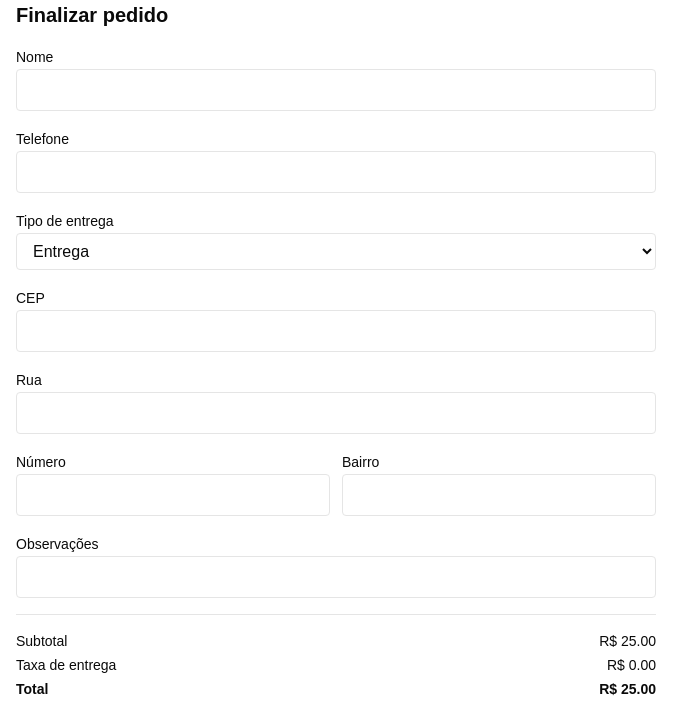
Test: CheckoutPage › finaliza o pedido e mostra a confirmação
Type "Ana" into the field labelled "Nome" at (336, 90), box [16,69,656,111]
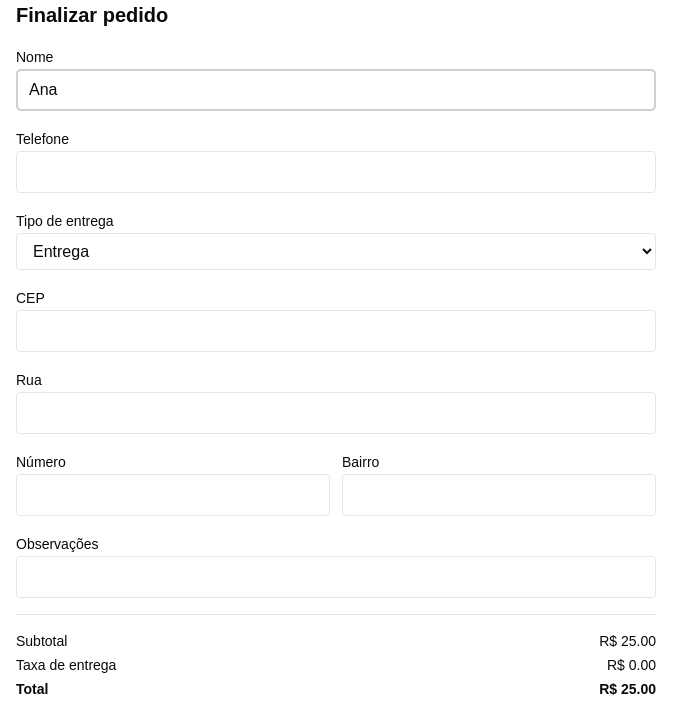
Type "11999999999" into the field labelled "Telefone" at (336, 172), box [16,151,656,193]
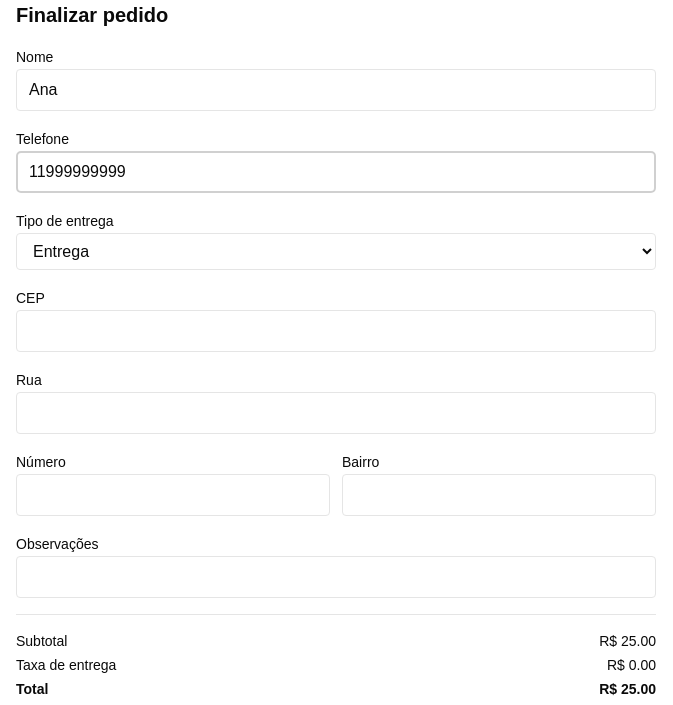
Type "01001000" into the field labelled "CEP" at (336, 331), box [16,310,656,352]
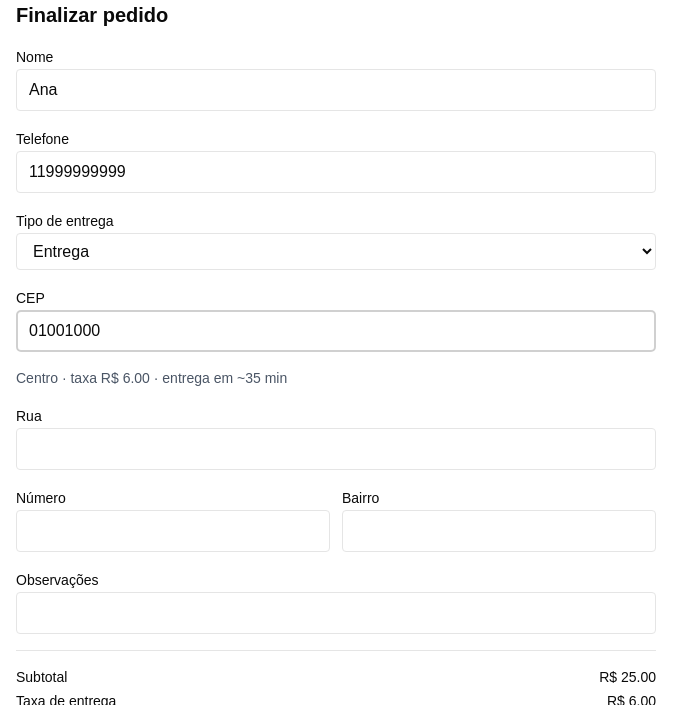
Press Tab
(page scrolled)
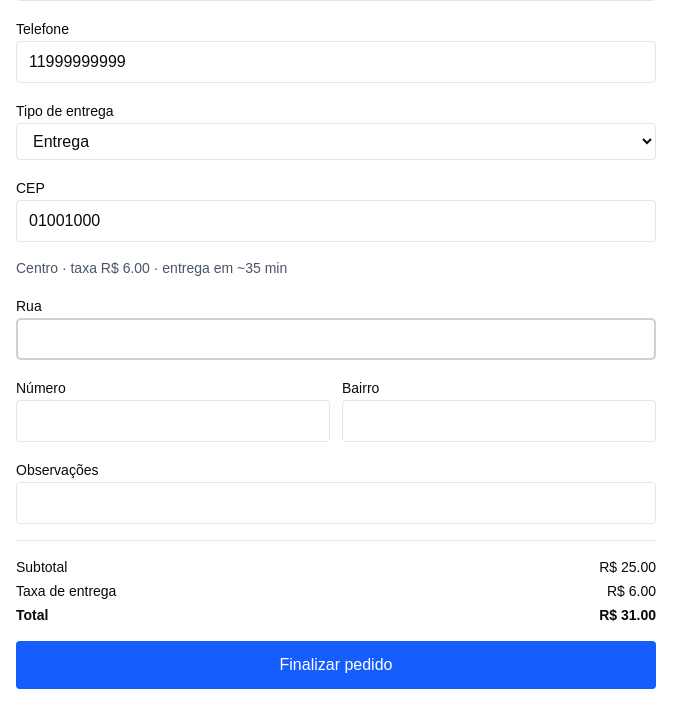
Click the button "Finalizar pedido" at (336, 665), box [16,641,656,689]
(page scrolled)
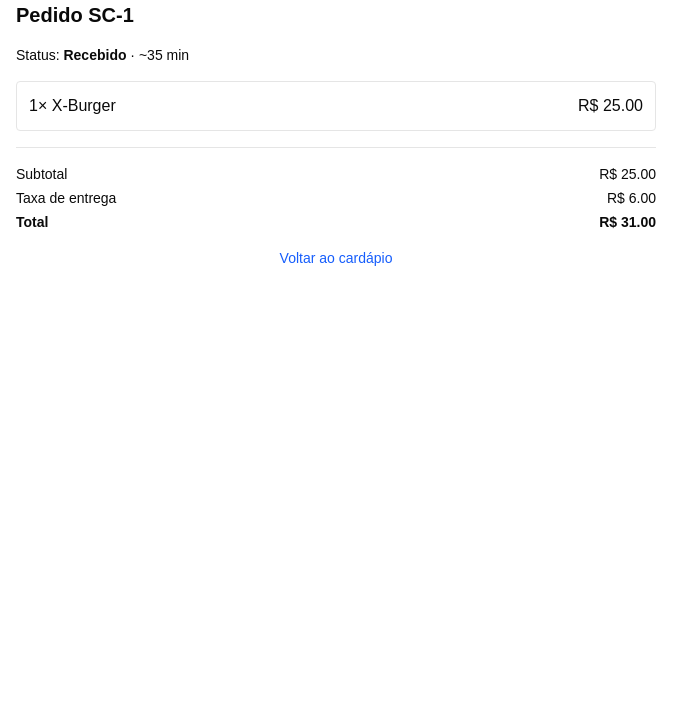
Expected: the text "SC-1" is shown, [88,4,134,26]
